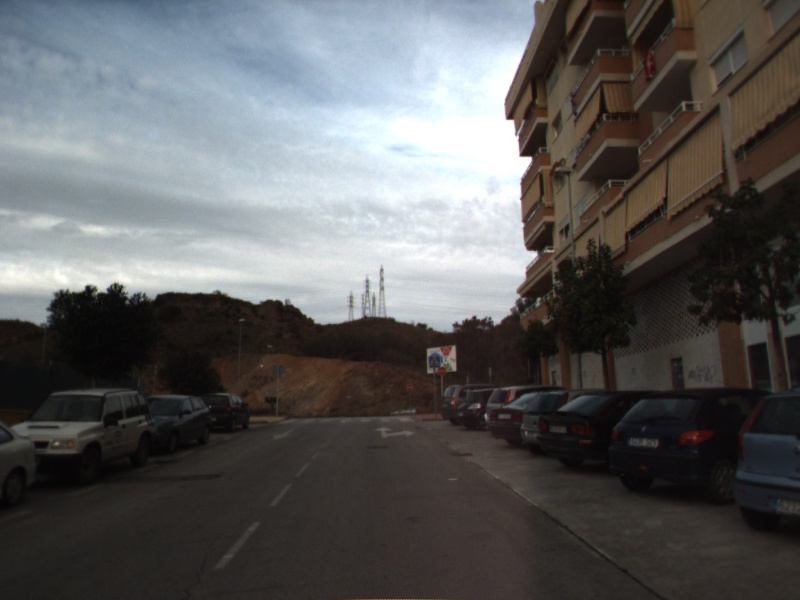STRAIGHT_RIGHT: (371, 424, 417, 440)
